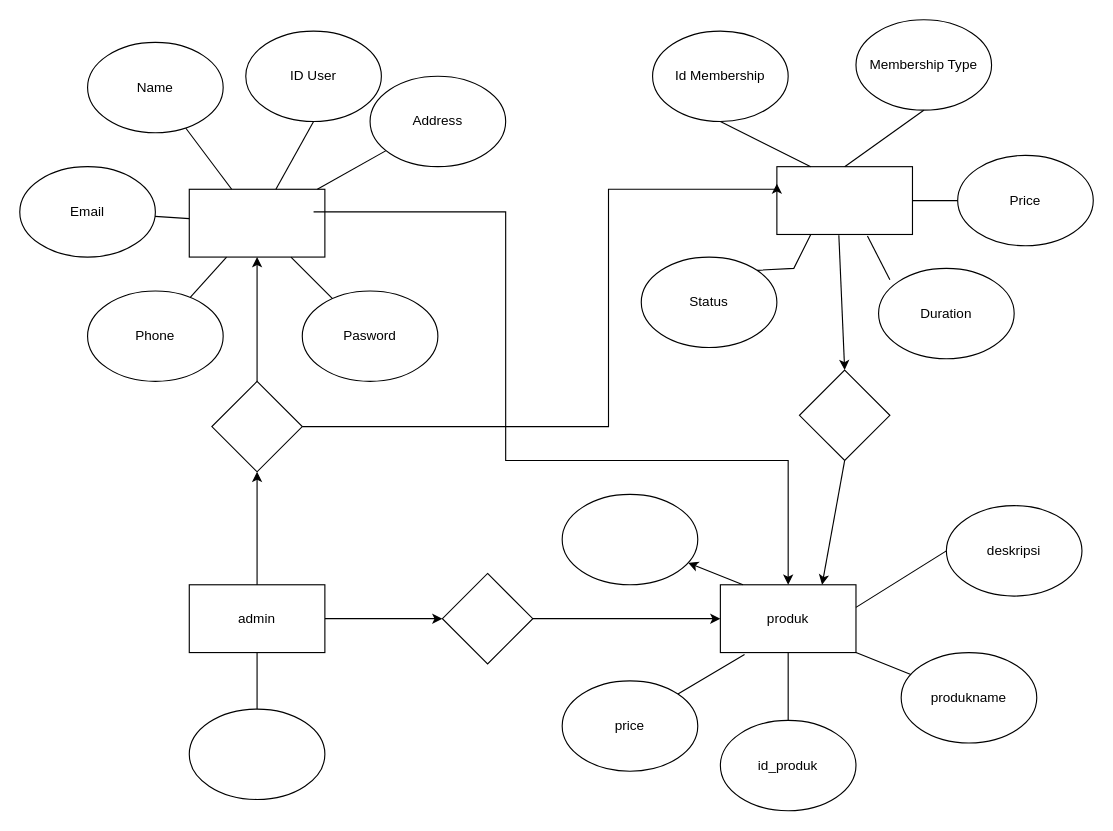
The diagram is 1113 pixels wide and 831 high, and some of its shapes have lost their labels. Each missing label, with the centre of its shape:
"admin id" belongs at [256,753].
"membership" belongs at [844,200].
"menelola" belongs at [256,426].
"mengakses" belongs at [844,414].
"mengelola" belongs at [487,618].
"stokquantity" belongs at [629,539].
"user" belongs at [256,222].
